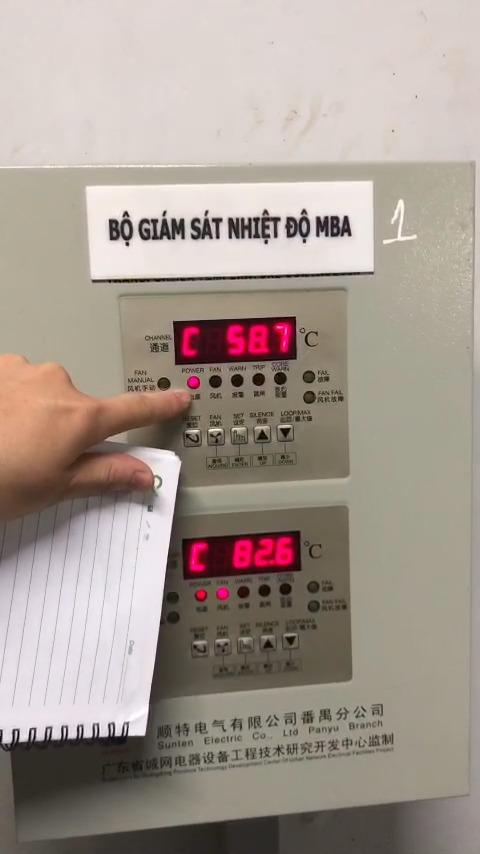led: (273, 372, 288, 386), (252, 372, 266, 387), (165, 591, 180, 605), (307, 600, 321, 615), (231, 373, 245, 387), (209, 375, 223, 389), (187, 376, 201, 390), (157, 377, 171, 391), (279, 582, 293, 596), (258, 584, 272, 598), (217, 587, 231, 601), (195, 588, 209, 602), (166, 611, 180, 625), (303, 370, 316, 384), (303, 390, 316, 404), (307, 580, 320, 594), (237, 586, 251, 599)
